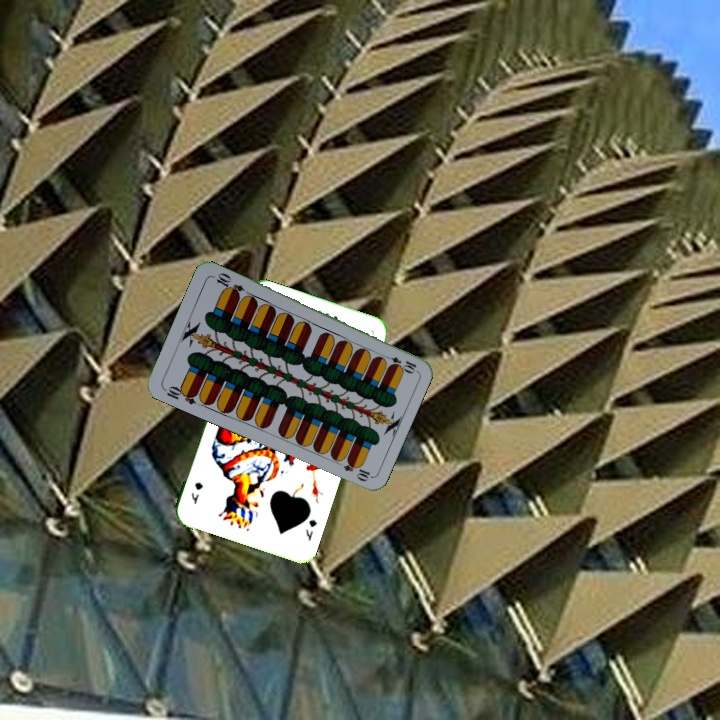E10: (159, 382, 200, 407), (379, 351, 419, 374)
GK: (301, 515, 319, 543)
